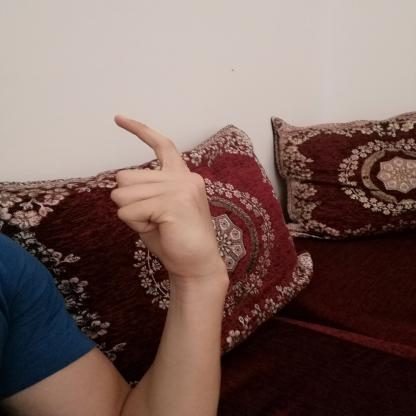RAA: (101, 105, 234, 278)
